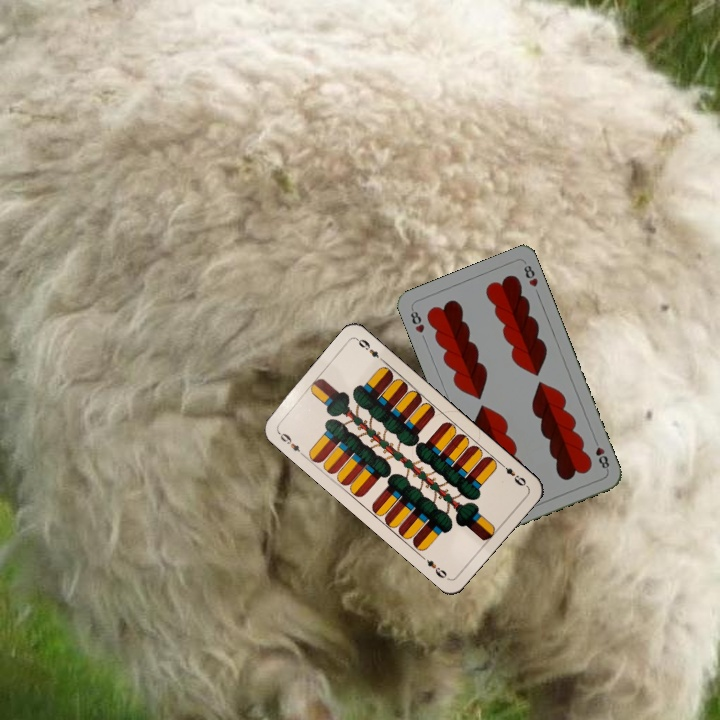E9: (496, 458, 529, 489), (274, 428, 307, 459)
H8: (590, 435, 612, 474), (406, 304, 427, 336)
